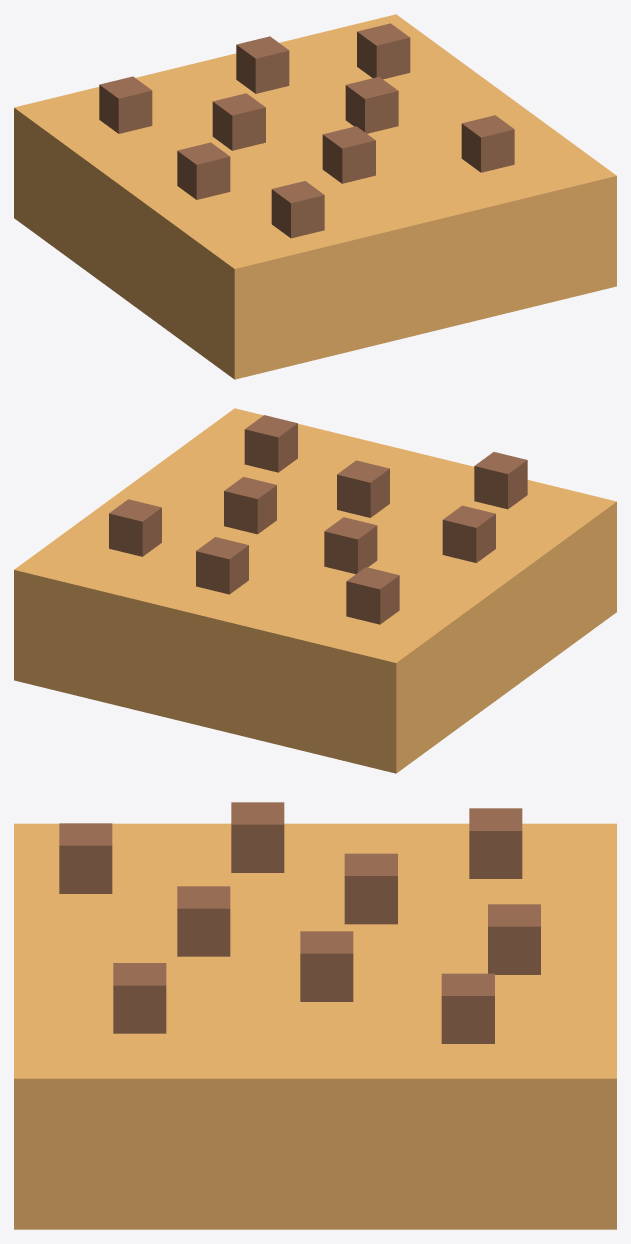
Rendered from CandylandCookie.fbx.
The picture shows the model from 3 angles, top to bottom: view 1: azimuth 30°, elevation 25°; view 2: azimuth 150°, elevation 25°; view 3: azimuth 270°, elevation 25°; orthographic projection. The views are drawn at different scales.
Visible parts, largest first — view 1: CandylandCookie; view 2: CandylandCookie; view 3: CandylandCookie.
Boxes of the visible parts, x1,y1,x2,y2 form: CandylandCookie: (14, 14, 616, 379); CandylandCookie: (14, 408, 616, 773); CandylandCookie: (14, 802, 616, 1229).
Size of the model in its own units: 0.4071 by 0.1491 by 0.4071.
